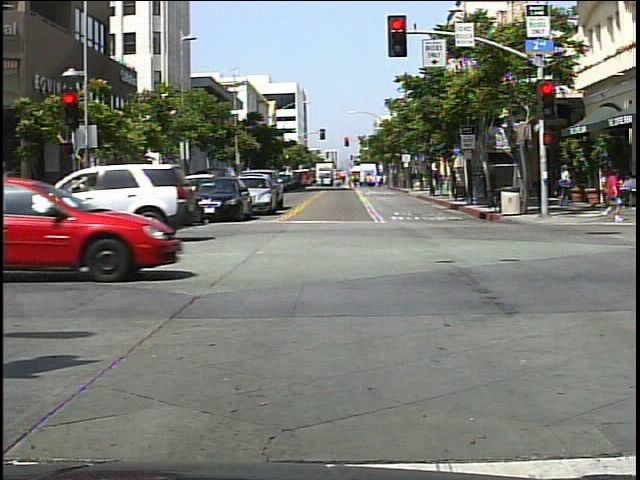person: (69, 172, 101, 235), (600, 167, 630, 228), (555, 162, 578, 213)
